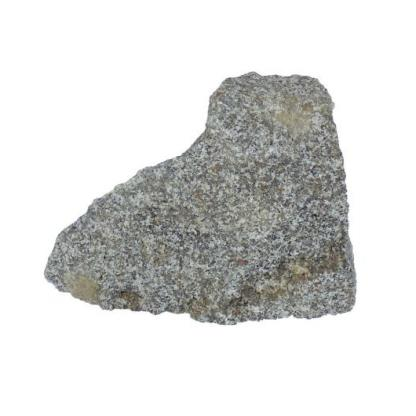Igneous_Diorite: (26, 55, 369, 325)
